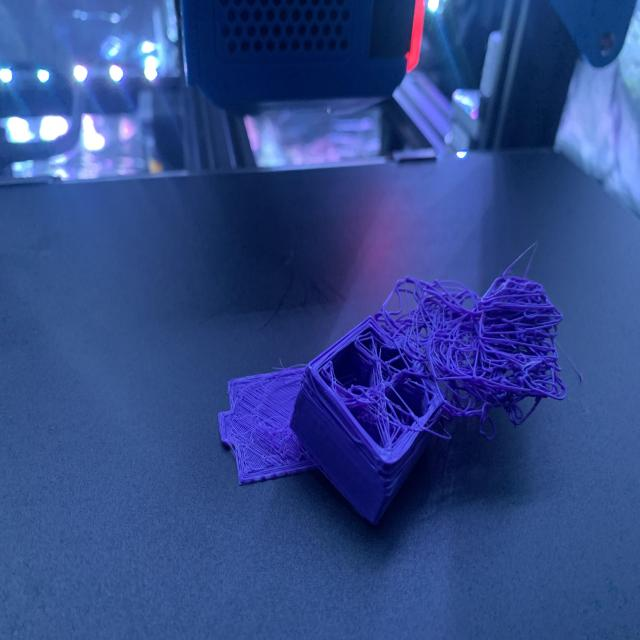Spaghetti: (217, 237, 568, 530)
